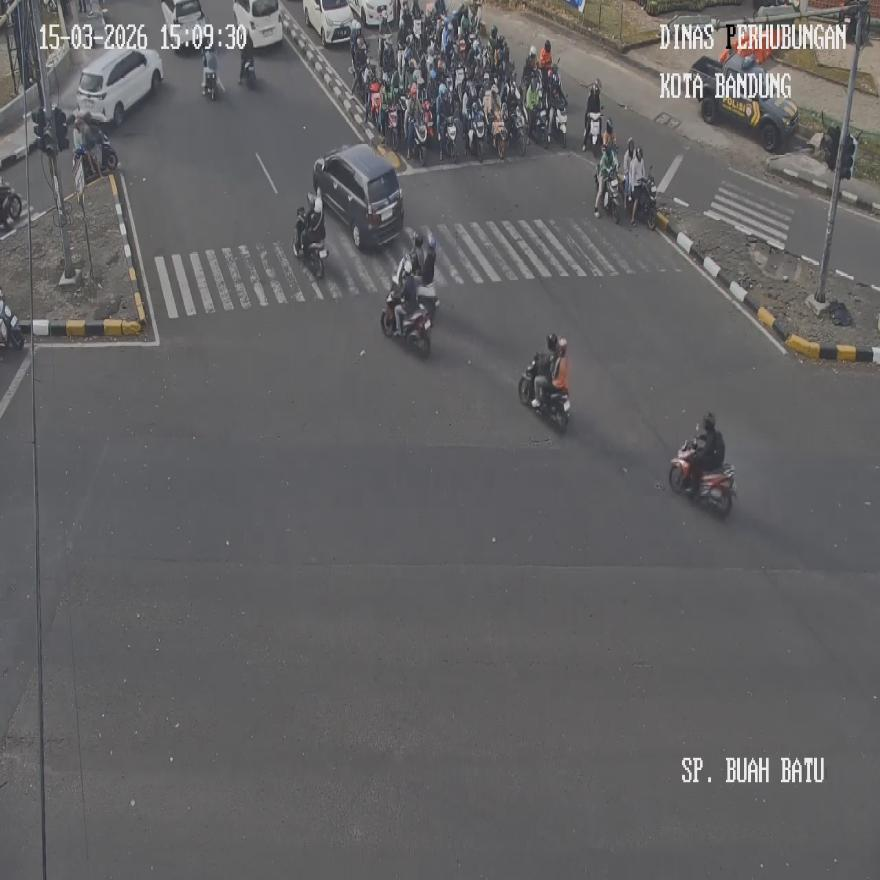Motor: (313, 143, 403, 249), (76, 45, 164, 127)
Truk: (669, 438, 736, 514), (382, 266, 431, 354), (518, 353, 570, 430), (72, 130, 118, 186), (293, 206, 326, 278), (630, 168, 657, 228), (595, 164, 621, 222), (0, 289, 23, 349), (0, 179, 21, 228), (407, 116, 427, 166), (239, 31, 256, 86), (528, 103, 548, 149), (582, 110, 602, 153), (548, 101, 566, 148), (467, 114, 485, 160), (492, 111, 508, 160), (386, 102, 400, 152), (368, 81, 382, 130), (421, 98, 436, 143), (443, 119, 458, 162), (202, 59, 218, 99), (239, 56, 256, 88)
